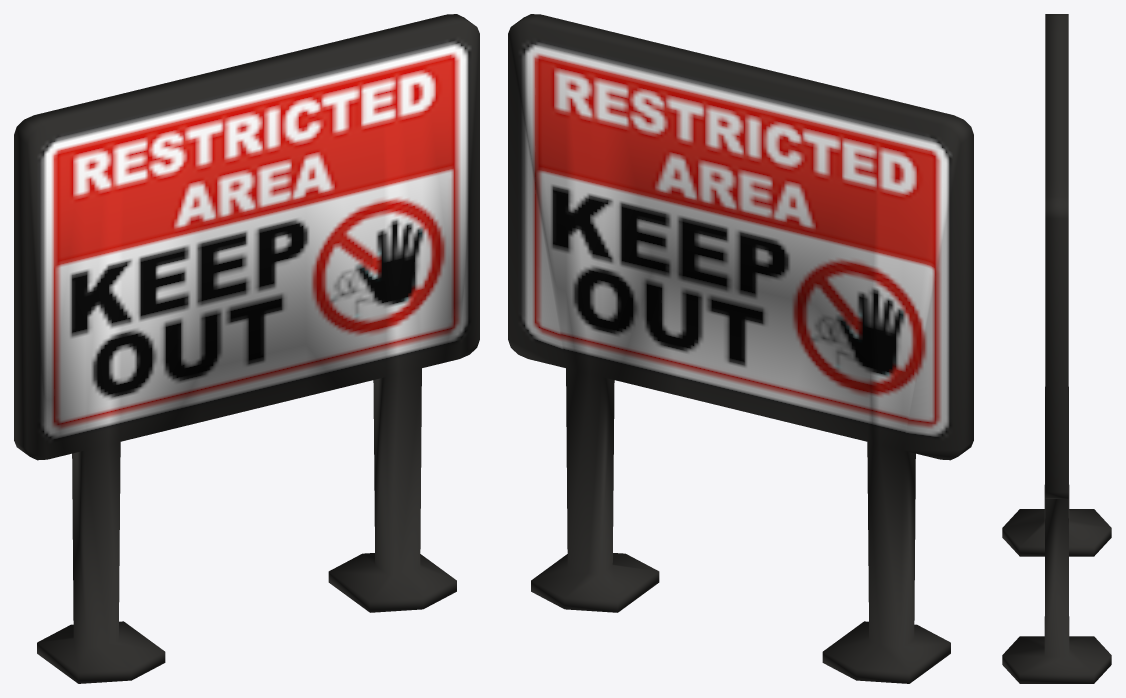
File: WorldItem_HCKeepOutSign.fbx
3 renders of one model, left to right at view 1: azimuth 30°, elevation 25°; view 2: azimuth 150°, elevation 25°; view 3: azimuth 270°, elevation 25°, orthographic. The views are drawn at different scales.
Visible parts, largest first — view 1: KeepoutSign; view 2: KeepoutSign; view 3: KeepoutSign.
Part boxes in pixels (x1=…): KeepoutSign: x1=14, y1=14, x2=479, y2=683; KeepoutSign: x1=508, y1=14, x2=973, y2=683; KeepoutSign: x1=1002, y1=14, x2=1111, y2=683.
Bounding box in the file's own units: 1.17 × 1.36 × 0.2723.
